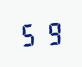five: (19, 21, 40, 47)
nine: (41, 20, 62, 45)
